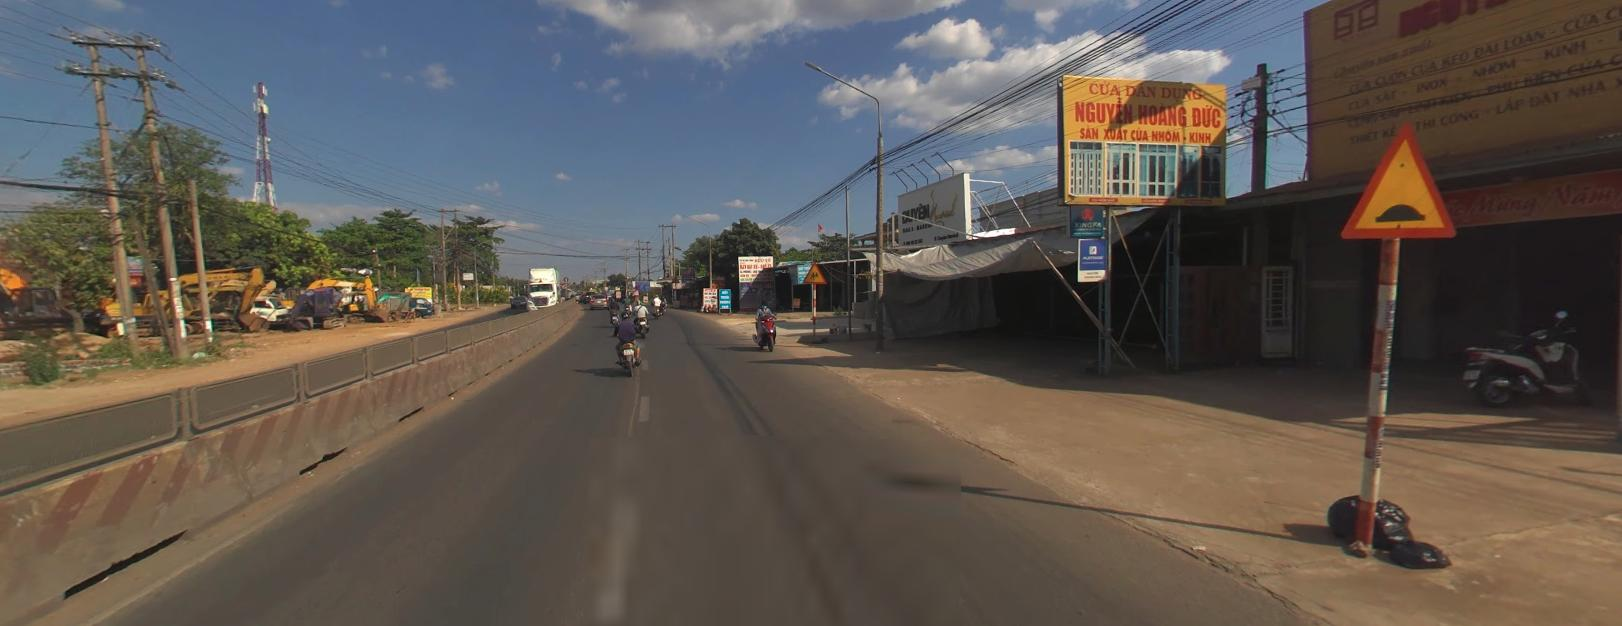Nguy hiem: (1340, 120, 1456, 238), (801, 259, 827, 282), (803, 261, 827, 281), (672, 274, 679, 280)
